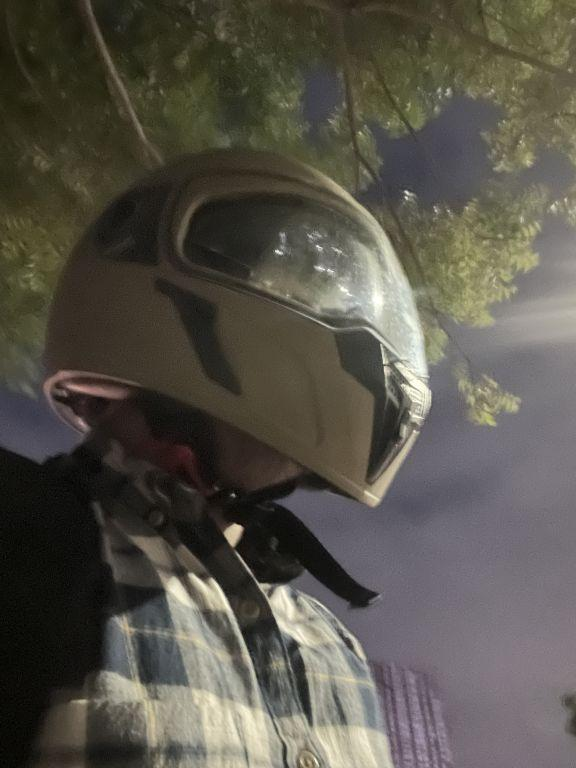helmet: (29, 134, 445, 522)
